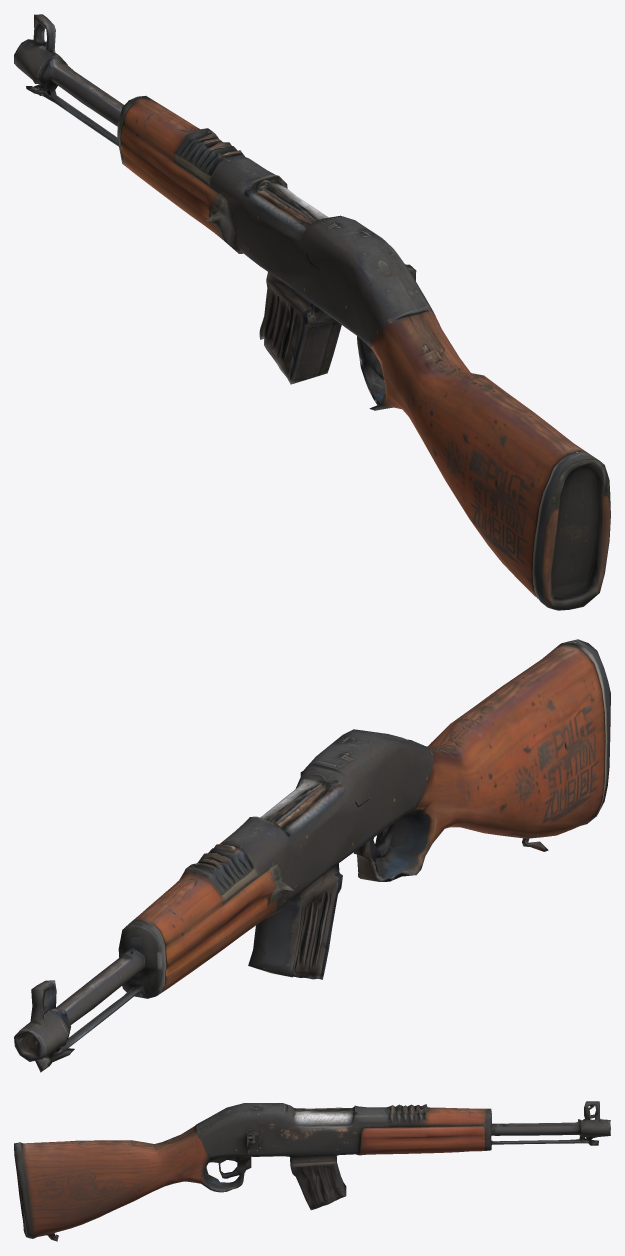
Rendered from rifle.glb.
The picture shows the model from 3 angles, top to bottom: view 1: azimuth 30°, elevation 25°; view 2: azimuth 150°, elevation 25°; view 3: azimuth 270°, elevation 25°; orthographic projection. The views are drawn at different scales.
Parts seen in each view (by area): view 1: Mesh_0; view 2: Mesh_0; view 3: Mesh_0.
Boxes of the visible parts, x1,y1,x2,y2 form: Mesh_0: [14, 14, 610, 610]; Mesh_0: [14, 639, 610, 1072]; Mesh_0: [14, 1101, 610, 1241].
Size of the model in its own units: 0.2161 by 0.4808 by 2.
Materials: 1 (1 with a texture image).
